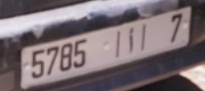5: (73, 37, 86, 68), (31, 50, 44, 79)
7: (46, 47, 60, 76), (171, 12, 183, 43)
8: (61, 43, 72, 73)
a: (125, 26, 135, 55)
